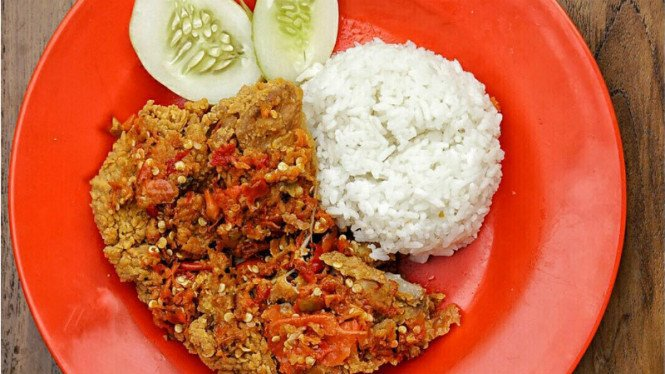ayam_geprek: (93, 89, 332, 374)
